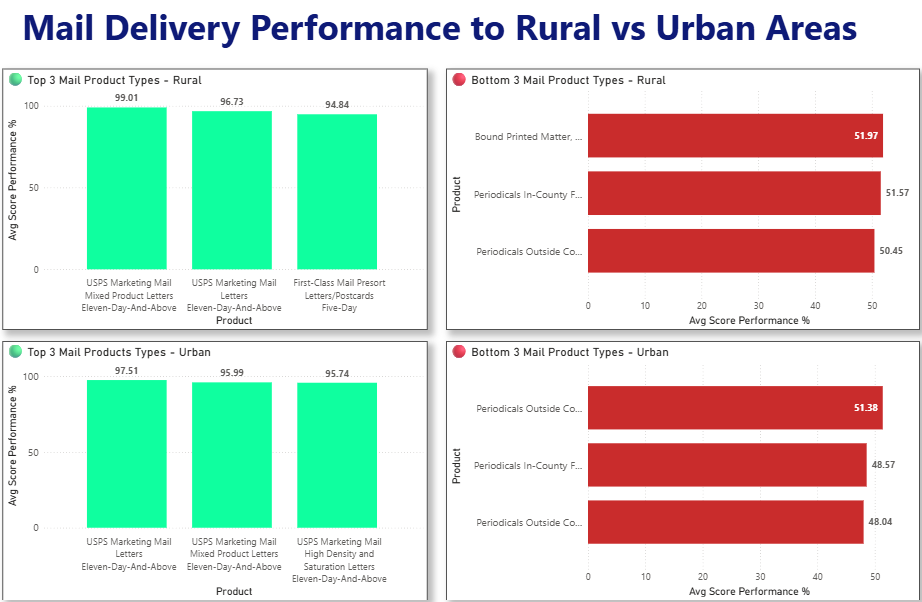

What the dashboard file says about the page in this screenshot:
{"tool":"powerbi","page":{"name":"Mail Product (Annual)","canvas":[1500,1000],"ordinal":2},"visuals":[{"type":"clusteredBarChart","title":"🔴 Bottom 3 Mail Product Types - Rural","fields":{"Category":["mail_products_annual.prodt"],"Y":["Avg(mail_products_annual.Average Score Performance %)"]},"box":[722.5,125,757.5,417.5],"z":0},{"type":"clusteredBarChart","title":"🔴 Bottom 3 Mail Product Types - Urban","fields":{"Category":["mail_products_annual.prodt"],"Y":["Avg(mail_products_annual.Average Score Performance %)"]},"box":[722.5,562.5,757.5,415],"z":1000},{"type":"columnChart","title":"🟢 Top 3 Mail Product Types  - Rural","fields":{"Category":["mail_products_annual.prodt"],"Y":["Avg(mail_products_annual.Average Score Performance %)"]},"box":[12.5,125,680,417.5],"z":2000},{"type":"columnChart","title":"🟢 Top 3 Mail Products Types - Urban","fields":{"Category":["mail_products_annual.prodt"],"Y":["Avg(mail_products_annual.Average Score Performance %)"]},"box":[12.5,562.5,680,415],"z":3000},{"type":"textbox","box":[38,14,1442,94],"z":4000}]}

Visuals, with their boxes in screenshot pixels (x1, y1, x2, y2), scaled from the page's 1500x1000 canvas onto the 922x602 screenshot:
"🔴 Bottom 3 Mail Product Types - Rural" clusteredBarChart: <region>444, 75, 910, 327</region>
"🔴 Bottom 3 Mail Product Types - Urban" clusteredBarChart: <region>444, 339, 910, 588</region>
"🟢 Top 3 Mail Product Types  - Rural" columnChart: <region>8, 75, 426, 327</region>
"🟢 Top 3 Mail Products Types - Urban" columnChart: <region>8, 339, 426, 588</region>
textbox: <region>23, 8, 910, 65</region>
